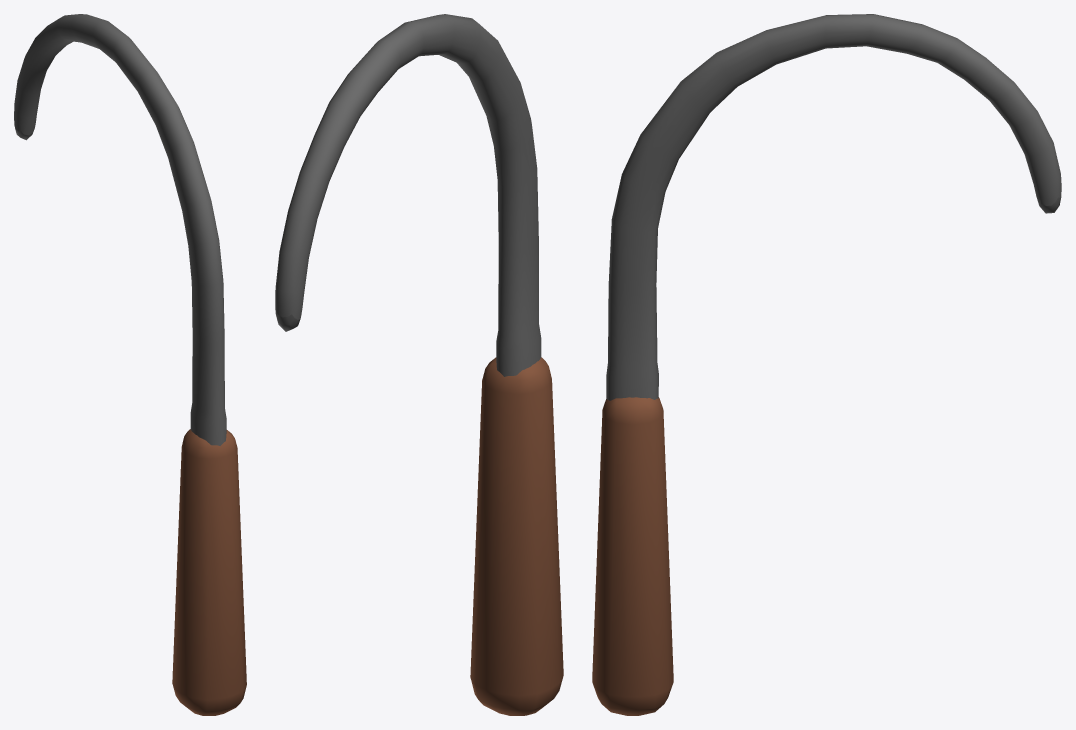
The model's file is Tool4.fbx.
3 renders of one model, left to right at view 1: azimuth 30°, elevation 25°; view 2: azimuth 150°, elevation 25°; view 3: azimuth 270°, elevation 25°, orthographic. The views are drawn at different scales.
Parts seen in each view (by area): view 1: Cylinder.038; view 2: Cylinder.038; view 3: Cylinder.038.
Part boxes in pixels (bbox=[...]): Cylinder.038: bbox=[14, 14, 246, 715]; Cylinder.038: bbox=[275, 14, 563, 715]; Cylinder.038: bbox=[592, 14, 1061, 715].
Size of the model in its own units: 0.1005 by 0.5802 by 0.9482.
